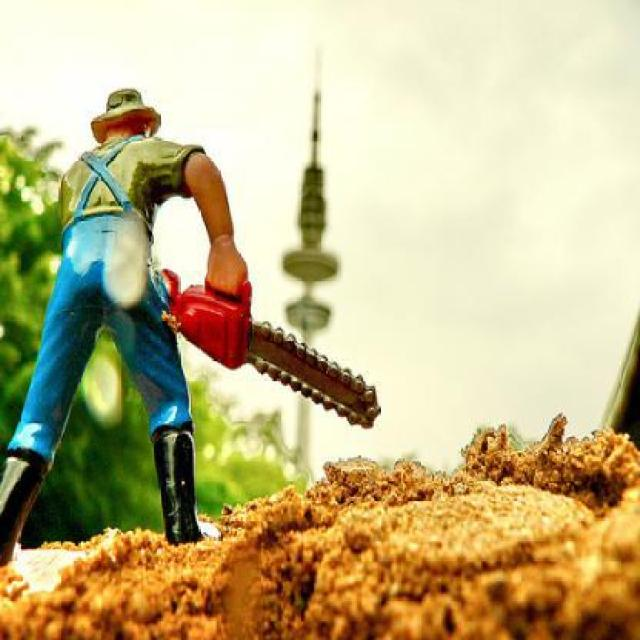Chainsaw: (154, 266, 380, 431)
